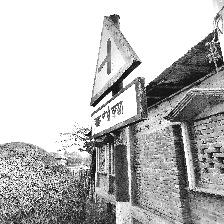Side-road-left: (90, 13, 146, 139)
